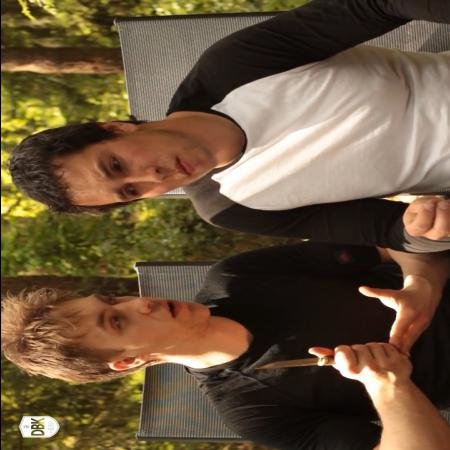long weapon: (246, 339, 392, 382)
